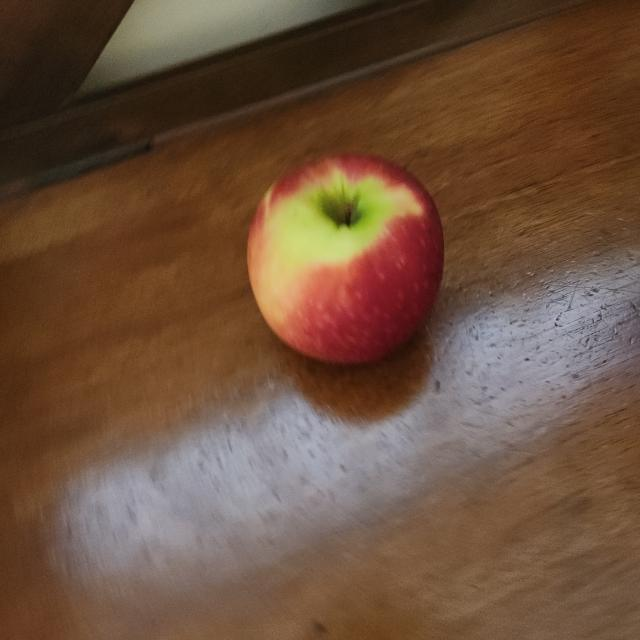apple: (240, 130, 444, 381)
